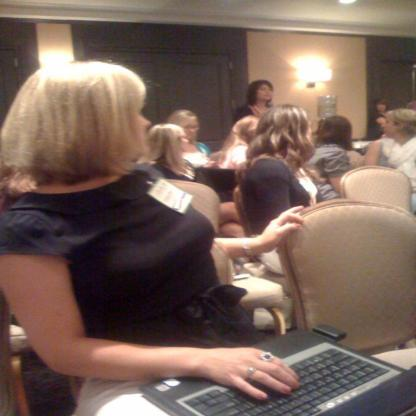board: (149, 322, 416, 416)
